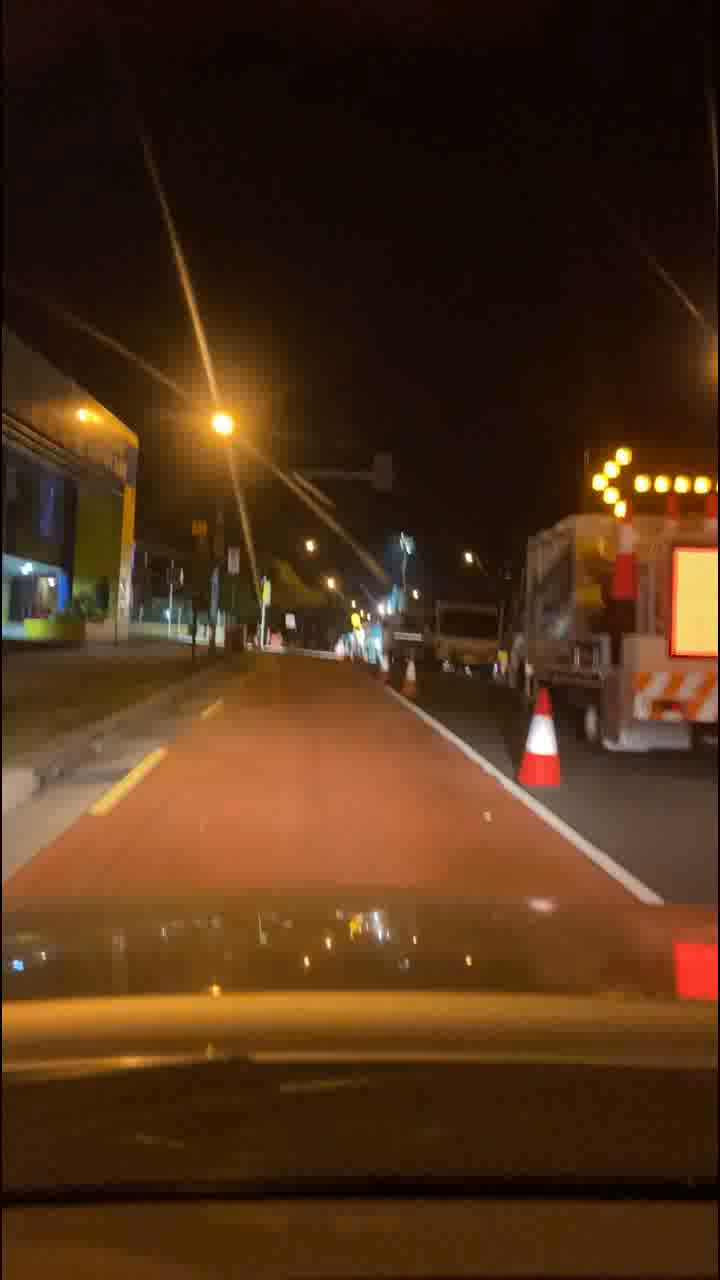road cone: (510, 673, 566, 792), (397, 655, 416, 698)
truck: (510, 463, 718, 784)
